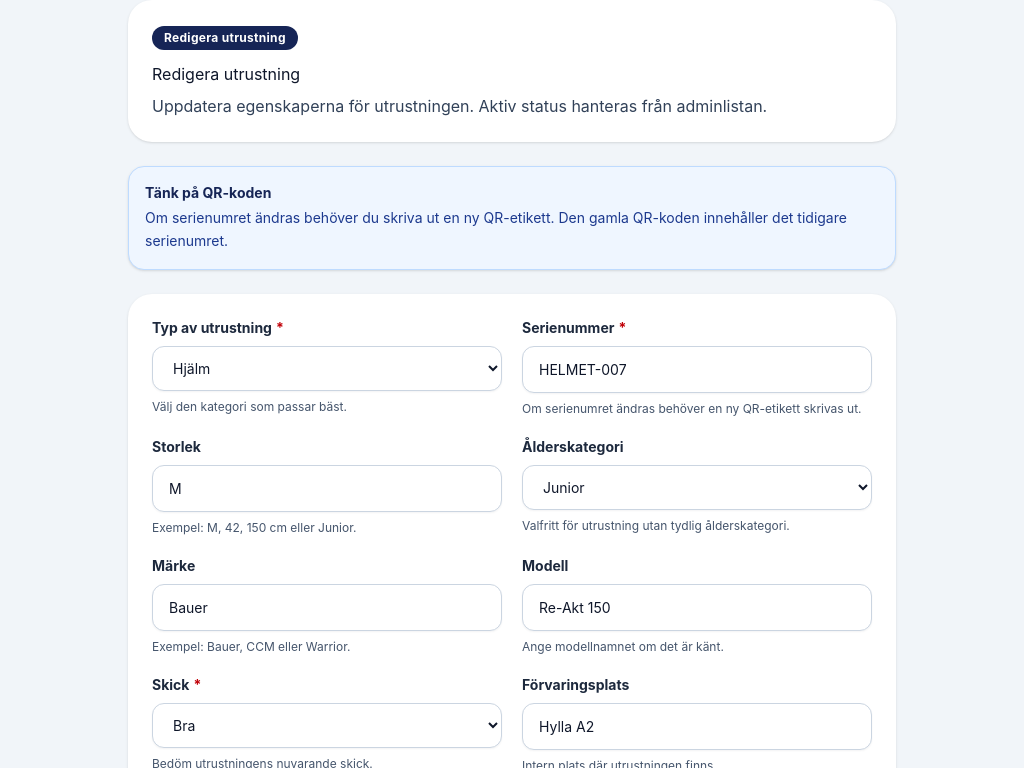
EditEquipment › shows local serial number validation error and focuses field
Replace the text in the field labelled "Serienummer*" with "INVALID SERIAL" at (697, 369), box 522,346 -> 872,392
(page scrolled)
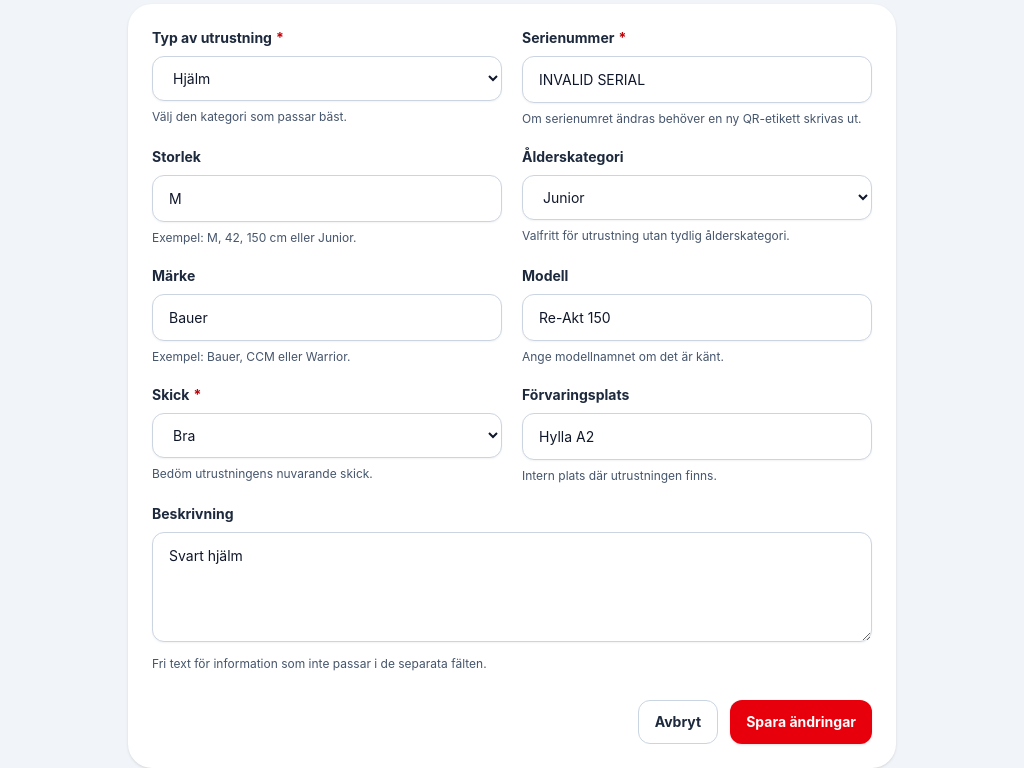
Submit the form named "spara ändringar"
(page scrolled)
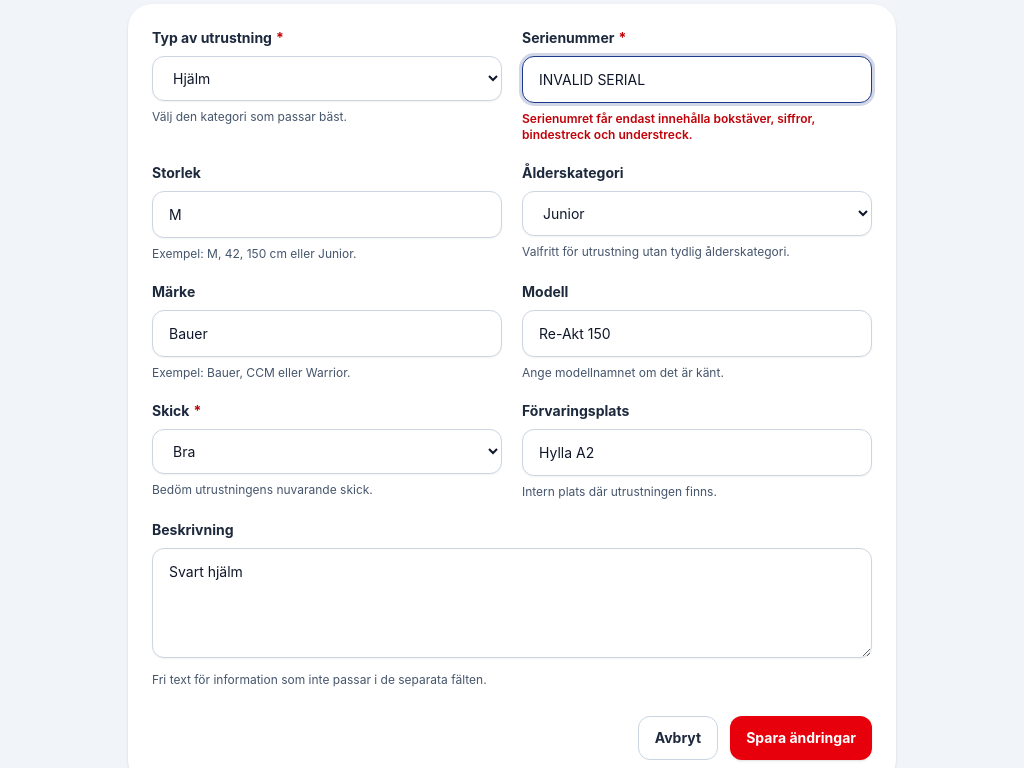
Expected: the text "Serienumret får endast innehålla bokstäver" is shown, 522,111 -> 815,142
